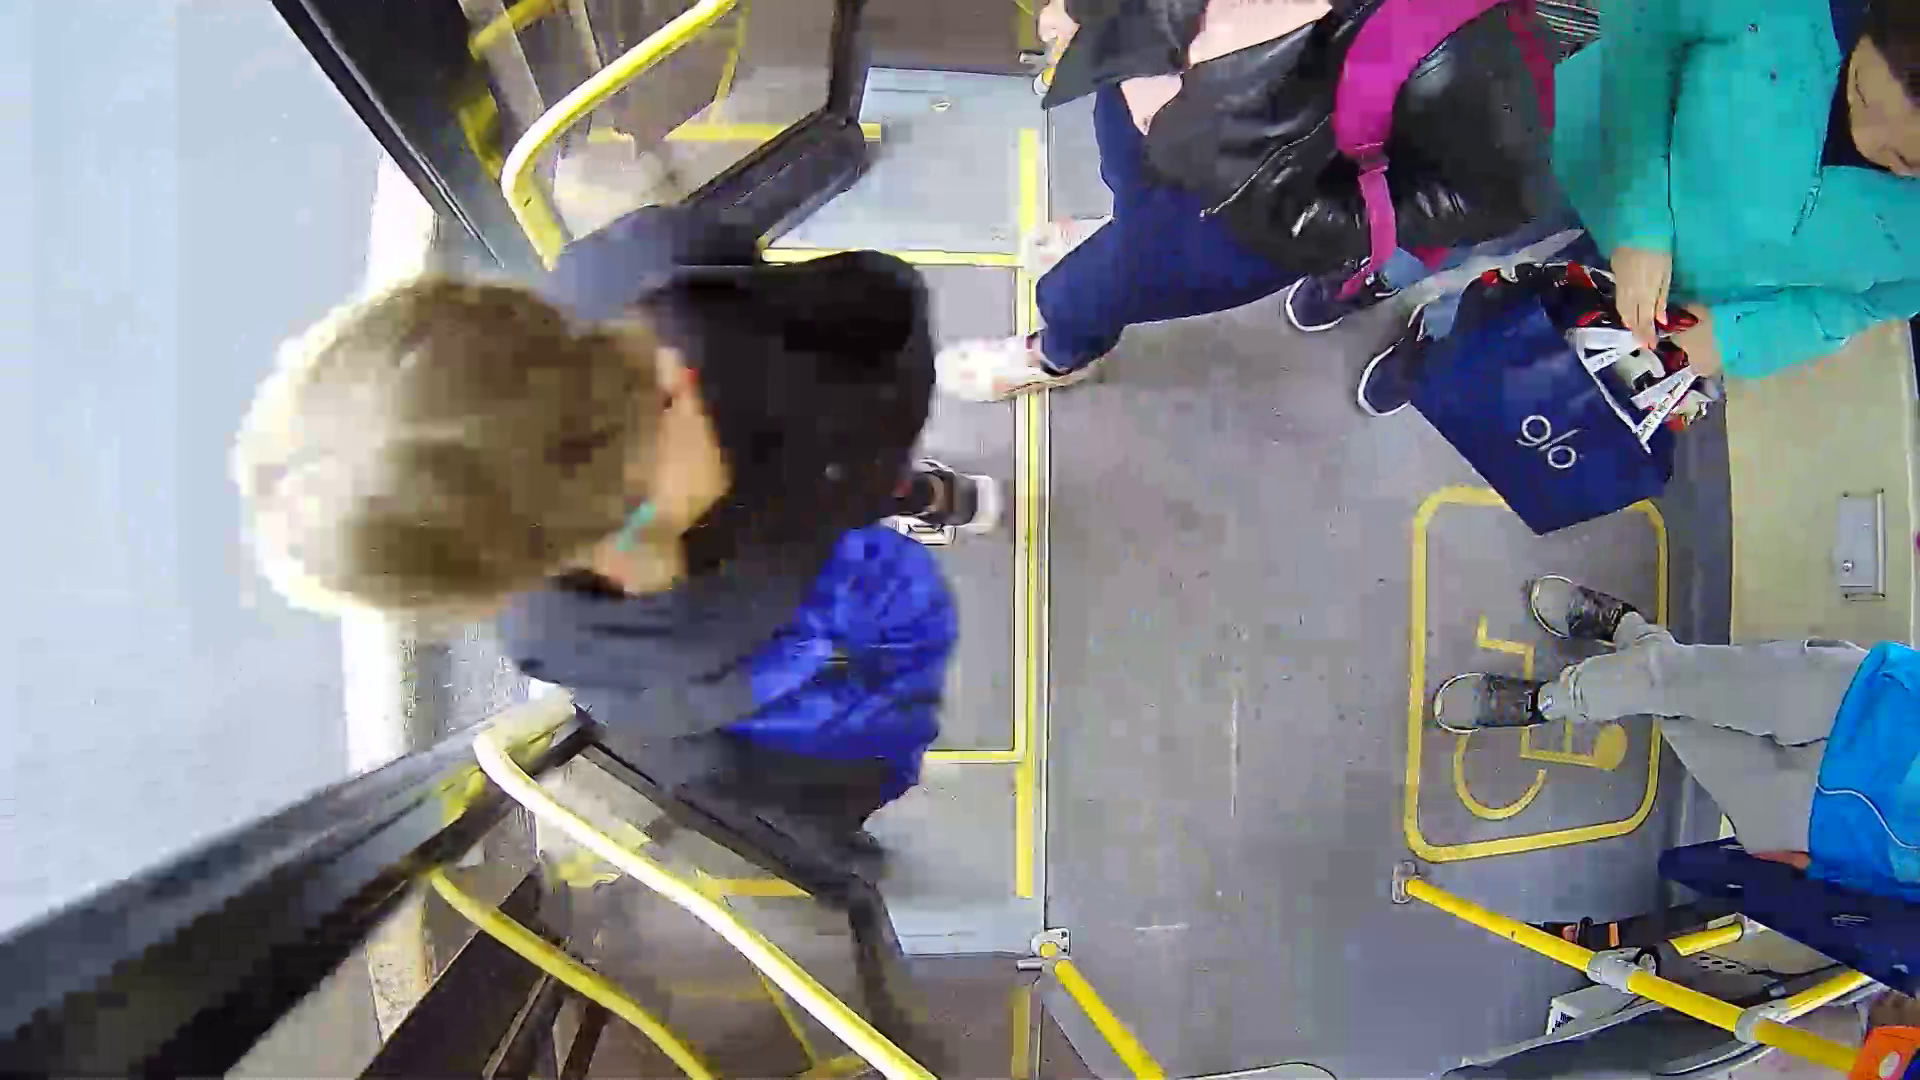person: (257, 235, 983, 828)
